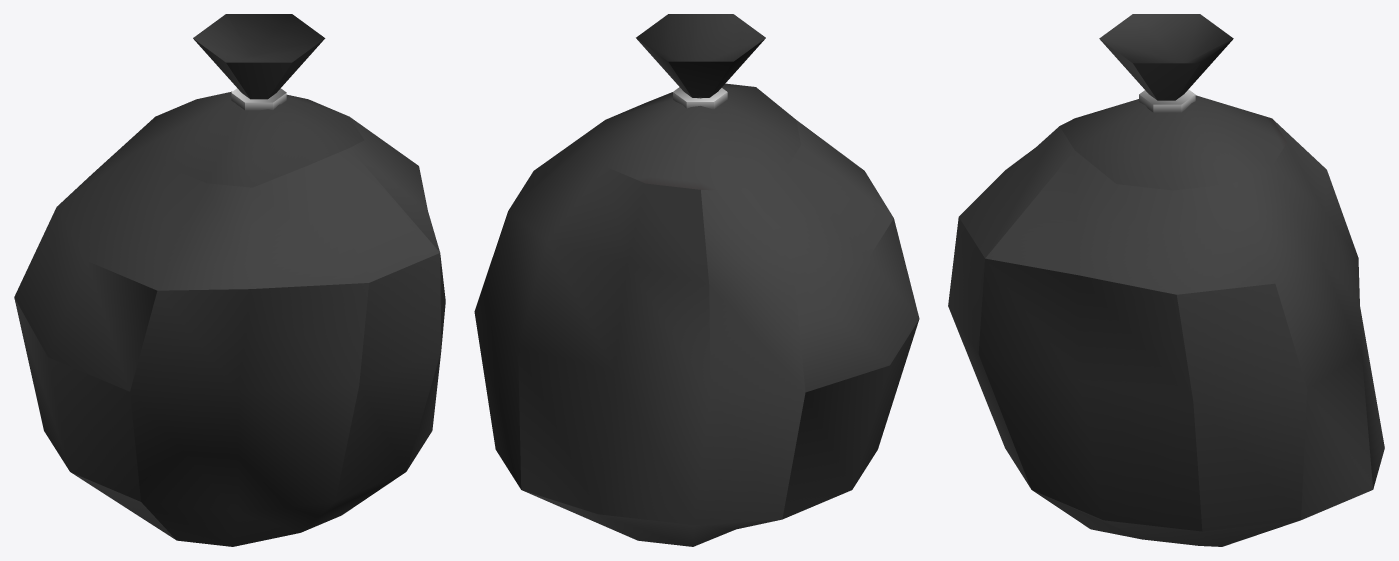
File: Sampah1.fbx
3 views of the same model, side by side, from view 1: azimuth 30°, elevation 25°; view 2: azimuth 150°, elevation 25°; view 3: azimuth 270°, elevation 25° (orthographic). The views are drawn at different scales.
Visible parts, largest first — view 1: Cylinder.597_Material.036_0; view 2: Cylinder.597_Material.036_0; view 3: Cylinder.597_Material.036_0.
Part boxes in pixels (box(x1,y1,x2,y2)): Cylinder.597_Material.036_0: box(14, 14, 445, 546); Cylinder.597_Material.036_0: box(474, 14, 919, 546); Cylinder.597_Material.036_0: box(948, 14, 1384, 546).
Size of the model in its own units: 64.25 by 72.85 by 61.59.
